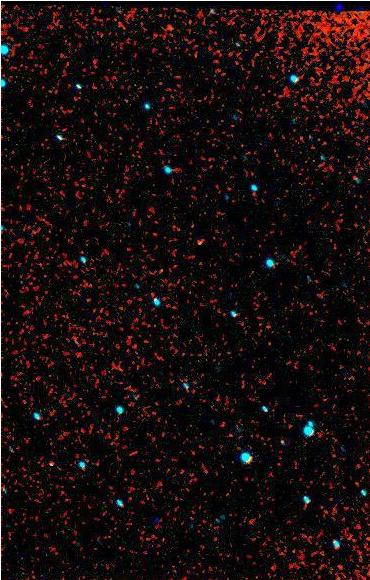star: (155, 13, 185, 43)
